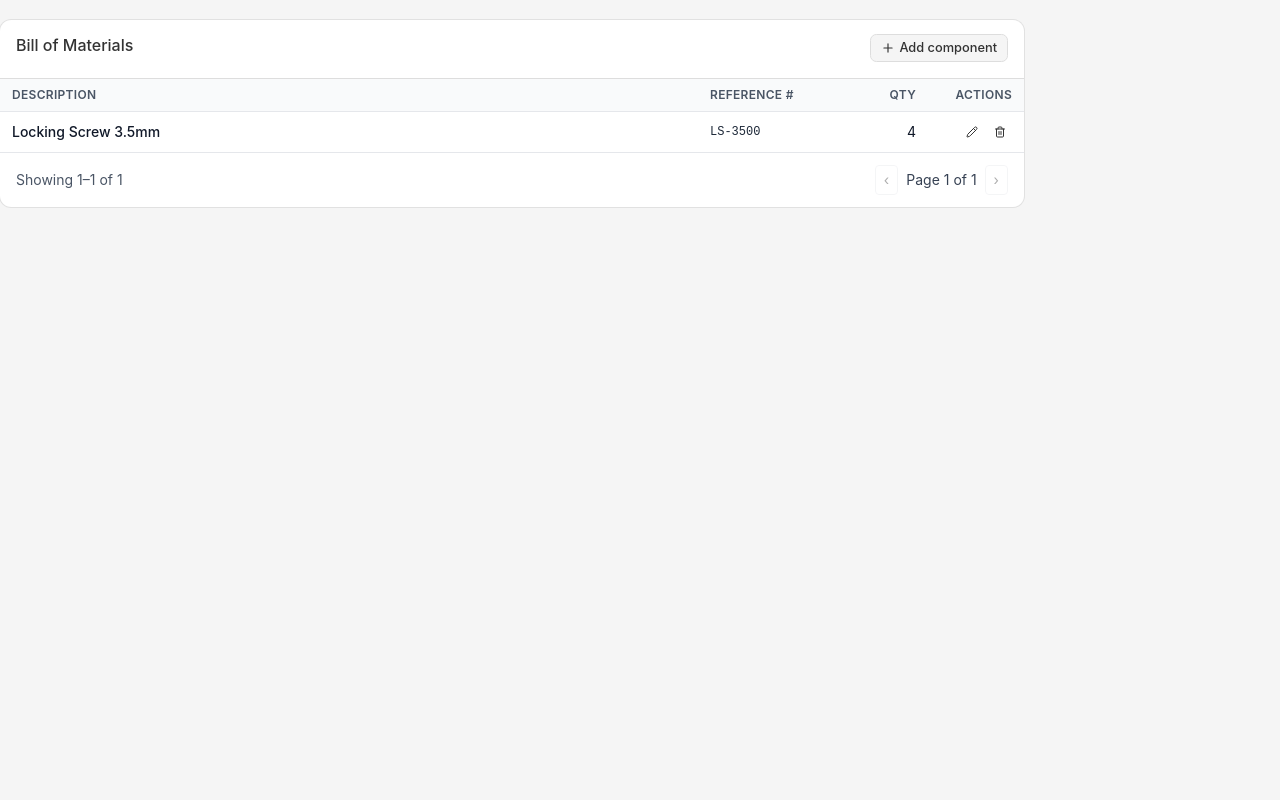
Test: KitComponentsCard › saves an amended quantity against the BOM row, under the kit
Expected: the link "Locking Screw 3.5mm" is shown, [12,123,160,140]
Click the button named "Edit quantity for Locking Screw 3.5mm" at (972, 132), box [960,120,984,144]
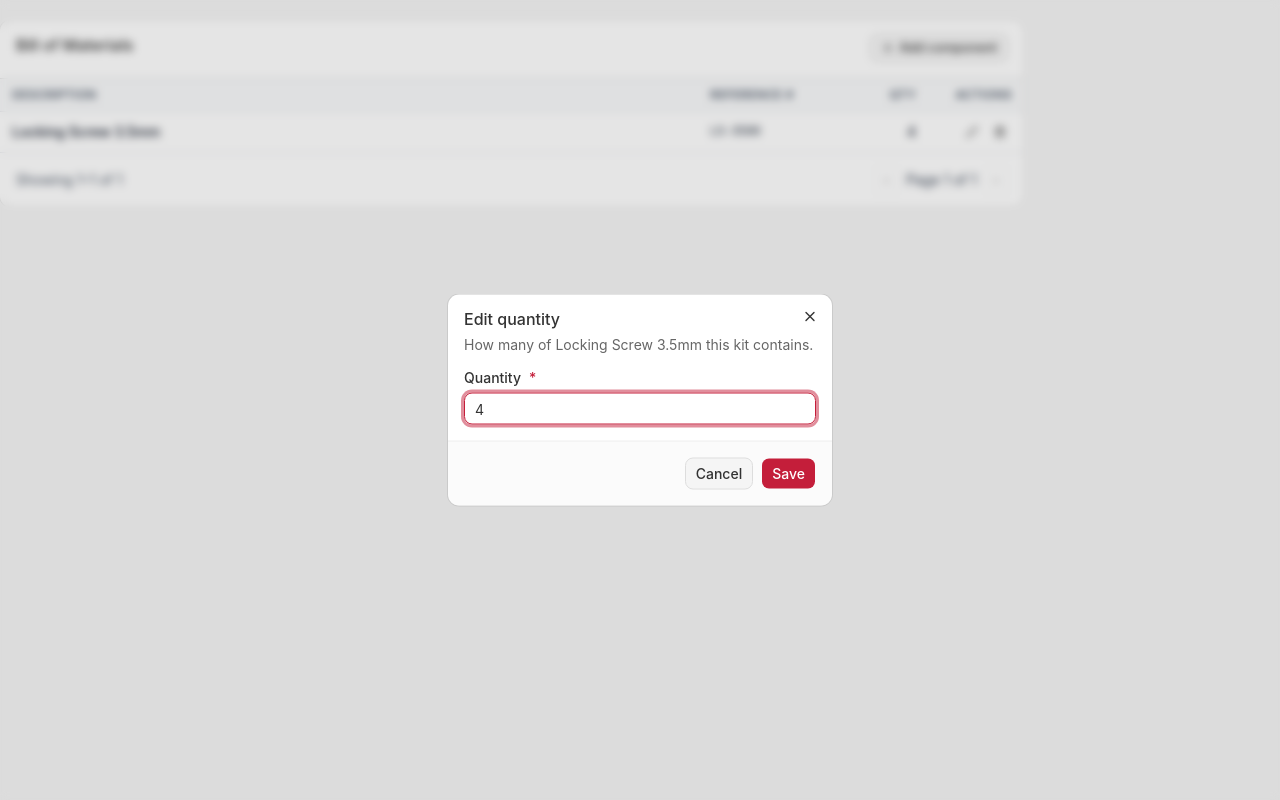
Replace the text in the field labelled "Quantity *" with "9" at (640, 408), box [464,392,816,424]
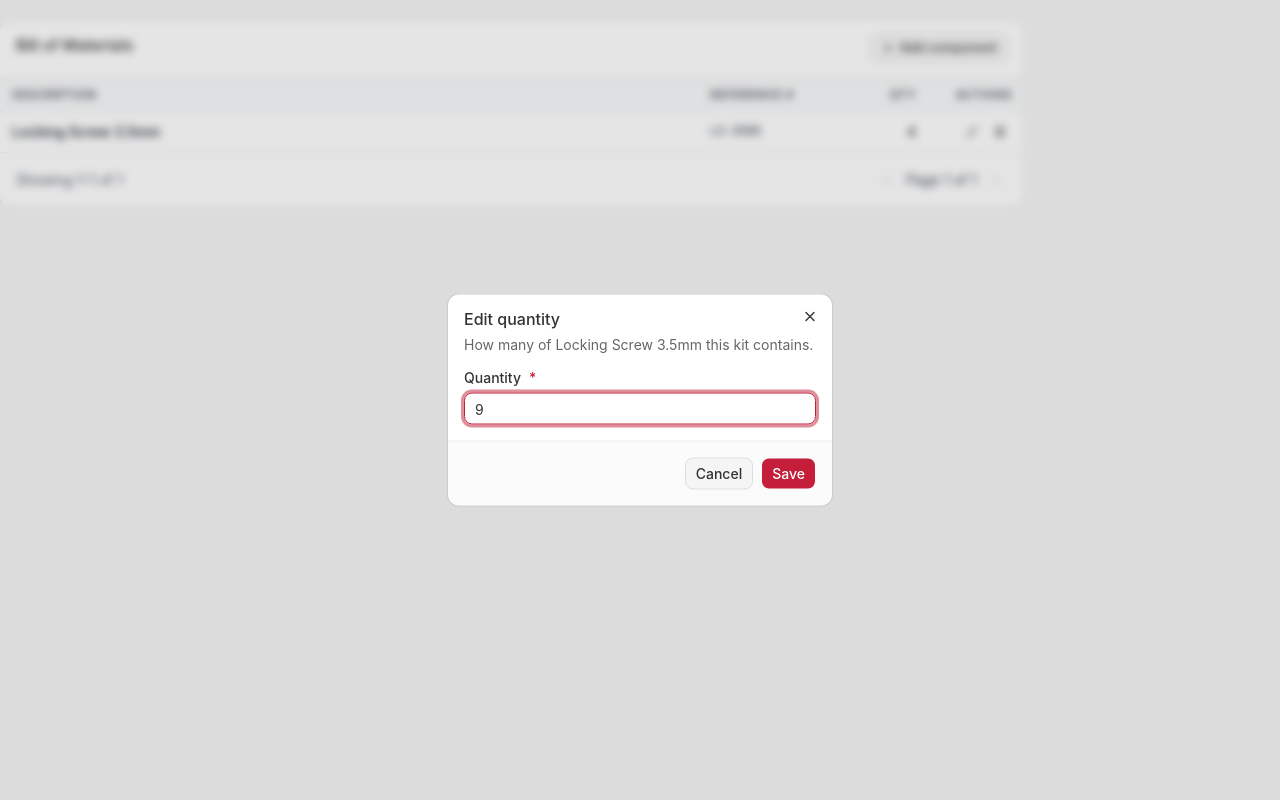
Click the button "Save" at (789, 474), box [761,458,816,490]
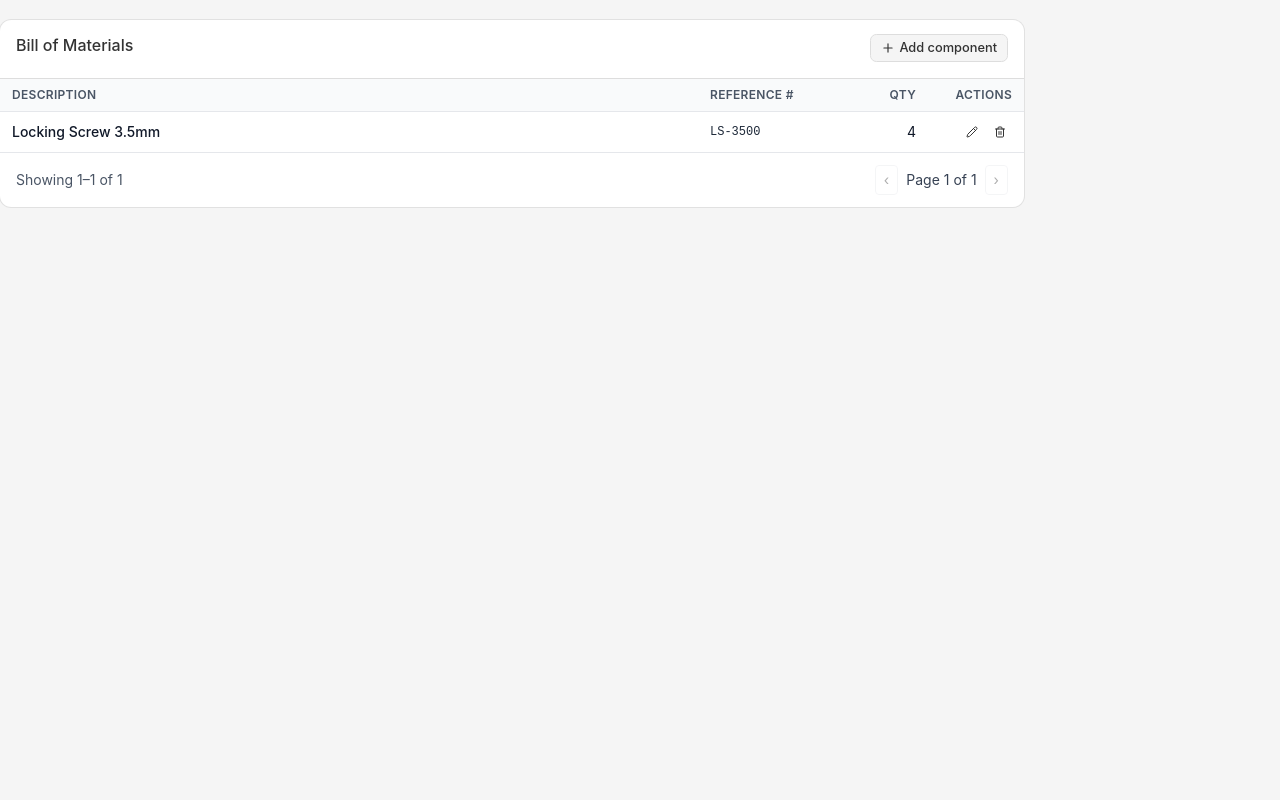
Now the dialog is gone
